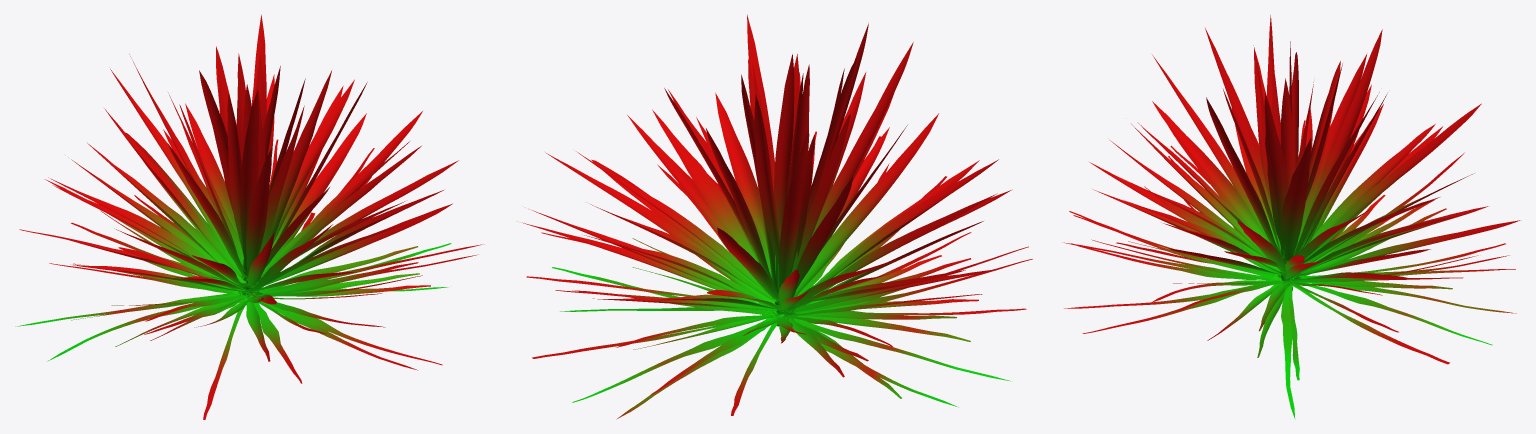
File: Var9_LOD0.fbx
The picture shows the model from 3 angles, left to right: view 1: azimuth 30°, elevation 25°; view 2: azimuth 150°, elevation 25°; view 3: azimuth 270°, elevation 25°; orthographic projection. The views are drawn at different scales.
Visible parts, largest first — view 1: _9ky0_Var9_LOD0; view 2: _9ky0_Var9_LOD0; view 3: _9ky0_Var9_LOD0.
Boxes of the visible parts, left/top/right/bottom form: _9ky0_Var9_LOD0: left=15, top=14, right=484, bottom=419; _9ky0_Var9_LOD0: left=522, top=14, right=1032, bottom=419; _9ky0_Var9_LOD0: left=1062, top=15, right=1520, bottom=419.
Bounding box in the file's own units: 99.58 × 66.8 × 99.24.
